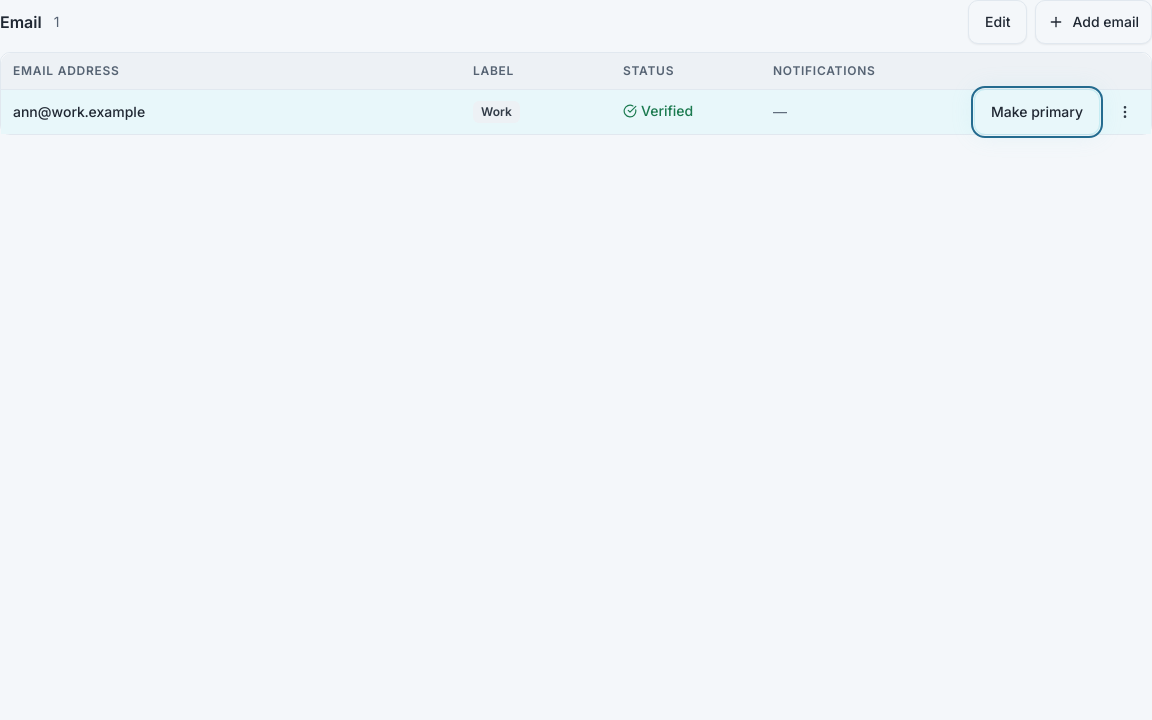
Scenario: EmailSection: Make primary confirm and send (Story 3.6) › with no current Primary the body has only its first sentence; the update holds only 41
The width and height of the screenshot is (1152, 720).
Step 1. Click the button "Make primary" → click(1037, 112), box [975,90,1099,134]
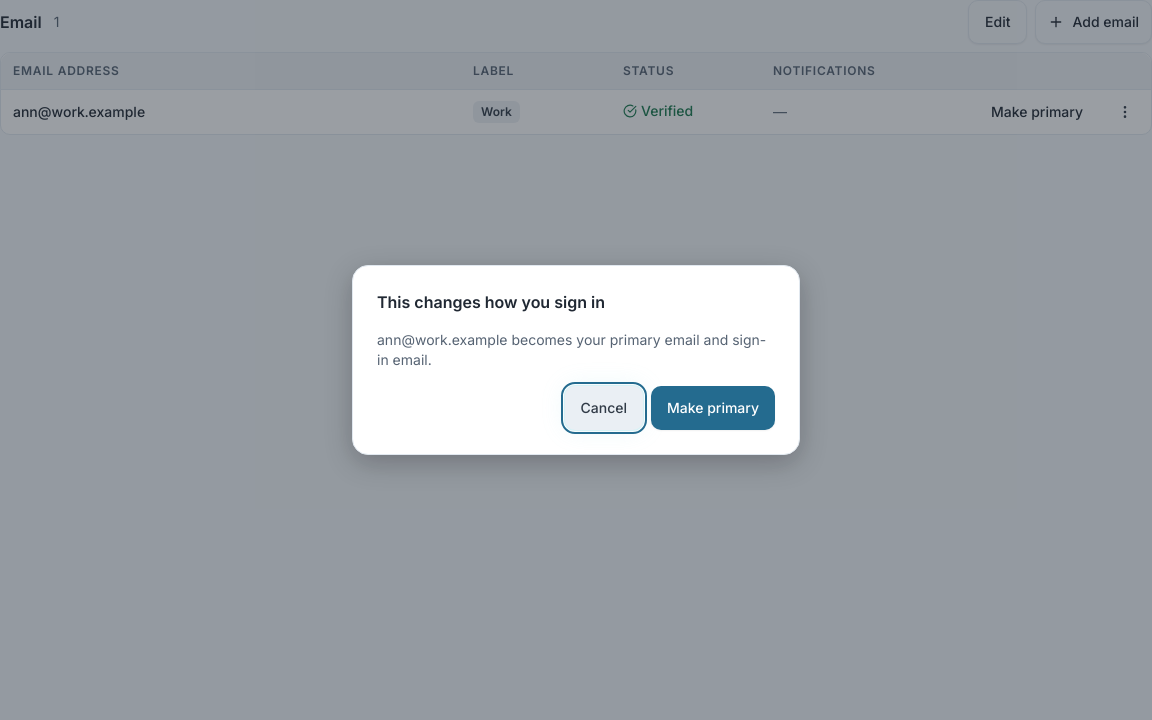
Now the dialog is shown, box [352,265,800,455]
Now the dialog shows "ann@work.example becomes your primary email and sign-in email.", box [377,331,766,368]
Step 2. Click the button "Make primary" → click(713, 408), box [651,386,775,430]
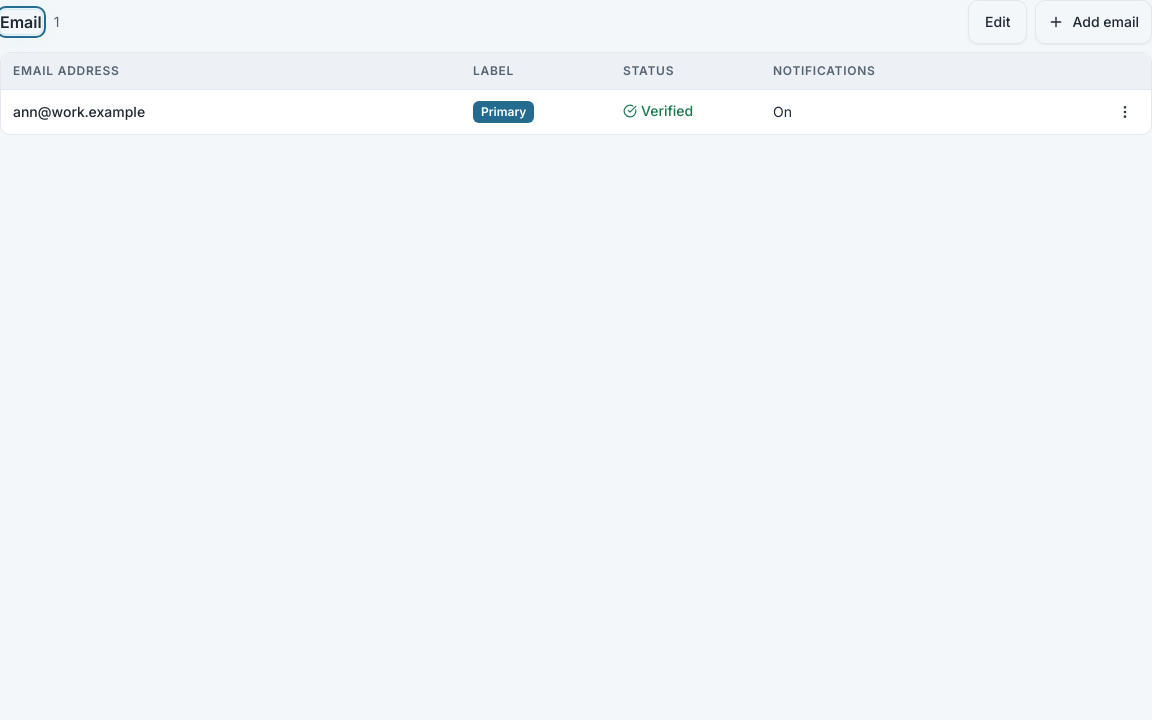
Now the dialog is gone
